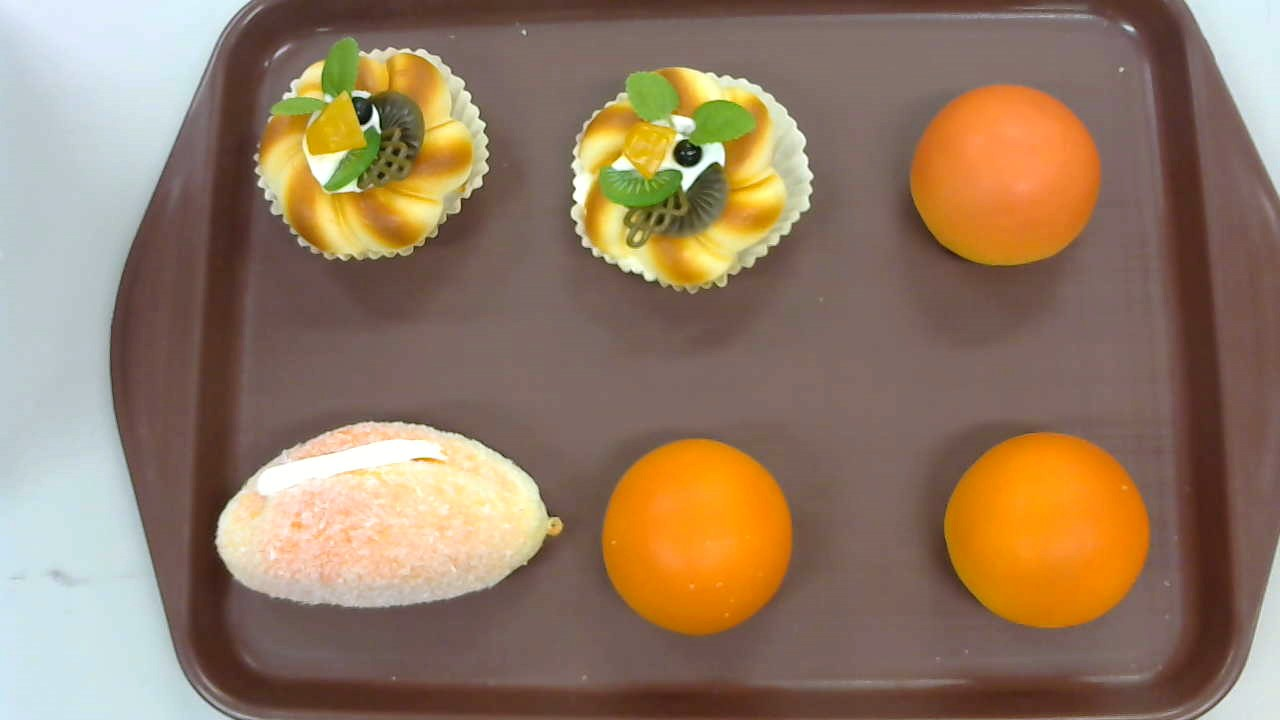bun: (942, 430, 1149, 628), (602, 438, 791, 634), (909, 84, 1102, 266)
coconut: (212, 421, 563, 607)
fruit tart: (569, 64, 813, 297), (252, 36, 490, 263)
